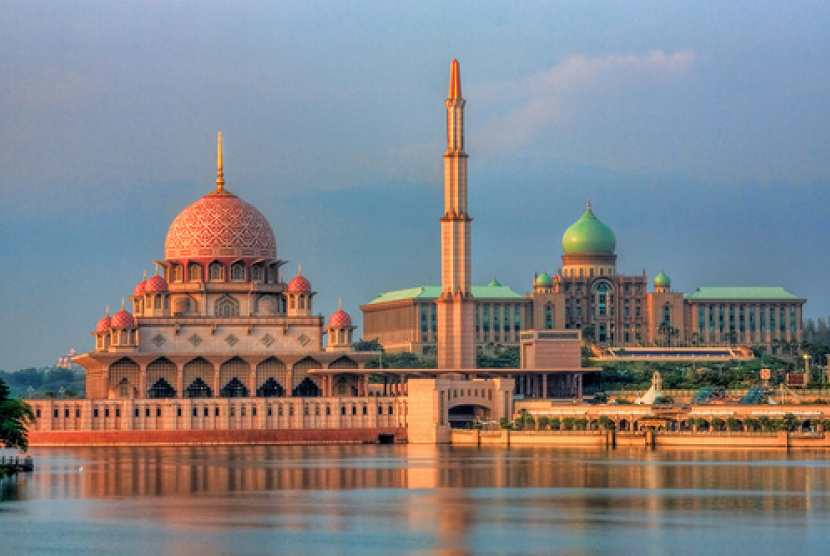Mosque: (60, 61, 800, 454)
